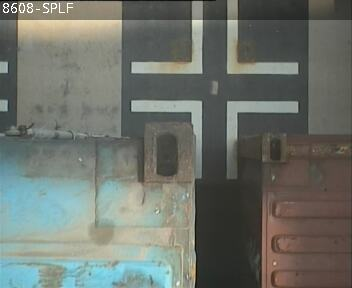groundmarker_1: (131, 100, 298, 181), (130, 1, 297, 74)
